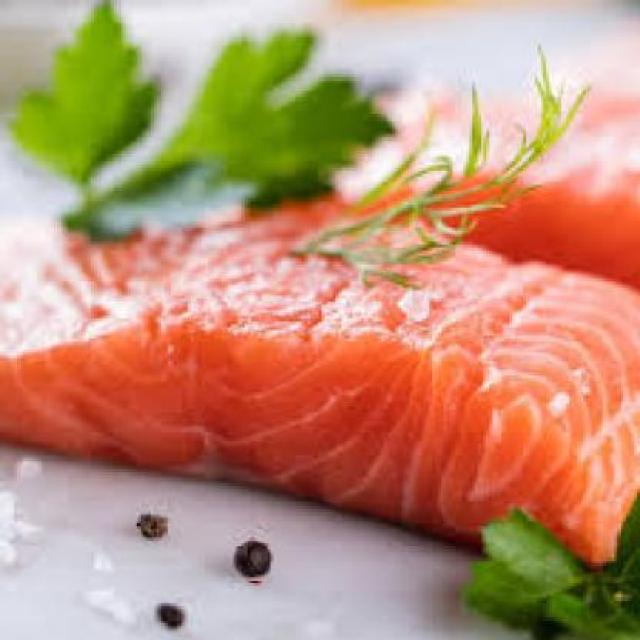salmon: (3, 182, 640, 566)
